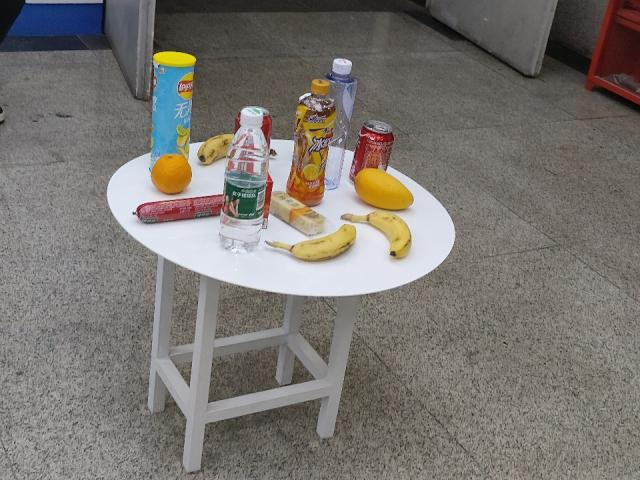Canned_drinks: (358, 124, 390, 168)
bottle: (226, 108, 266, 251), (329, 57, 350, 187)
cylinder: (153, 49, 196, 156)
